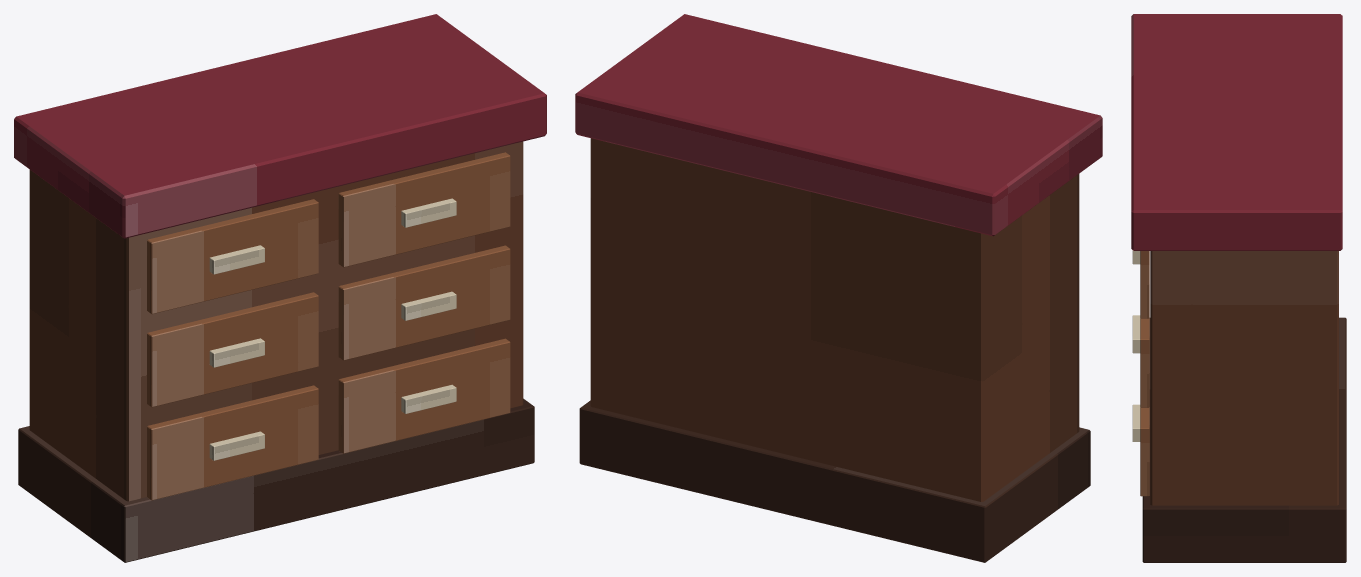
Rendered from bedroom_dresser.glb.
3 views of the same model, side by side, from view 1: azimuth 30°, elevation 25°; view 2: azimuth 150°, elevation 25°; view 3: azimuth 270°, elevation 25° (orthographic). The views are drawn at different scales.
Visible parts, largest first — view 1: DresserTop, DresserBody, DresserPlinth, DresserDrawer_2_2, DresserDrawer_1_2, DresserDrawer_3_2, DresserDrawer_3_1, DresserDrawer_1_1, DresserDrawer_2_1, DresserHandle_1_1, DresserHandle_2_1, DresserHandle_3_1 (+3 smaller); view 2: DresserBody, DresserTop, DresserPlinth; view 3: DresserTop, DresserBody, DresserPlinth, DresserDrawer_2_2, DresserDrawer_3_2, DresserDrawer_1_2, DresserHandle_2_2, DresserHandle_3_2.
Boxes of the visible parts, x1,y1,x2,y2 form: DresserTop: [14, 14, 546, 238]; DresserBody: [29, 141, 523, 501]; DresserPlinth: [18, 398, 534, 562]; DresserDrawer_2_2: [338, 245, 510, 360]; DresserDrawer_1_2: [338, 152, 510, 267]; DresserDrawer_3_2: [338, 338, 510, 453]; DresserDrawer_3_1: [147, 385, 318, 500]; DresserDrawer_1_1: [147, 199, 318, 314]; DresserDrawer_2_1: [147, 292, 318, 407]; DresserHandle_1_1: [209, 245, 264, 274]; DresserHandle_2_1: [209, 338, 264, 367]; DresserHandle_3_1: [209, 431, 264, 460]; DresserBody: [590, 138, 1079, 501]; DresserTop: [575, 14, 1102, 236]; DresserPlinth: [579, 400, 1090, 562]; DresserTop: [1131, 14, 1342, 250]; DresserBody: [1150, 251, 1338, 505]; DresserPlinth: [1142, 317, 1346, 562]; DresserDrawer_2_2: [1140, 318, 1149, 407]; DresserDrawer_3_2: [1140, 407, 1149, 496]; DresserDrawer_1_2: [1140, 251, 1149, 318]; DresserHandle_2_2: [1132, 316, 1140, 353]; DresserHandle_3_2: [1132, 404, 1140, 441].
Size of the model in its own units: 1.24 by 1.04 by 0.57.
Materials: 1 (1 with a texture image).
